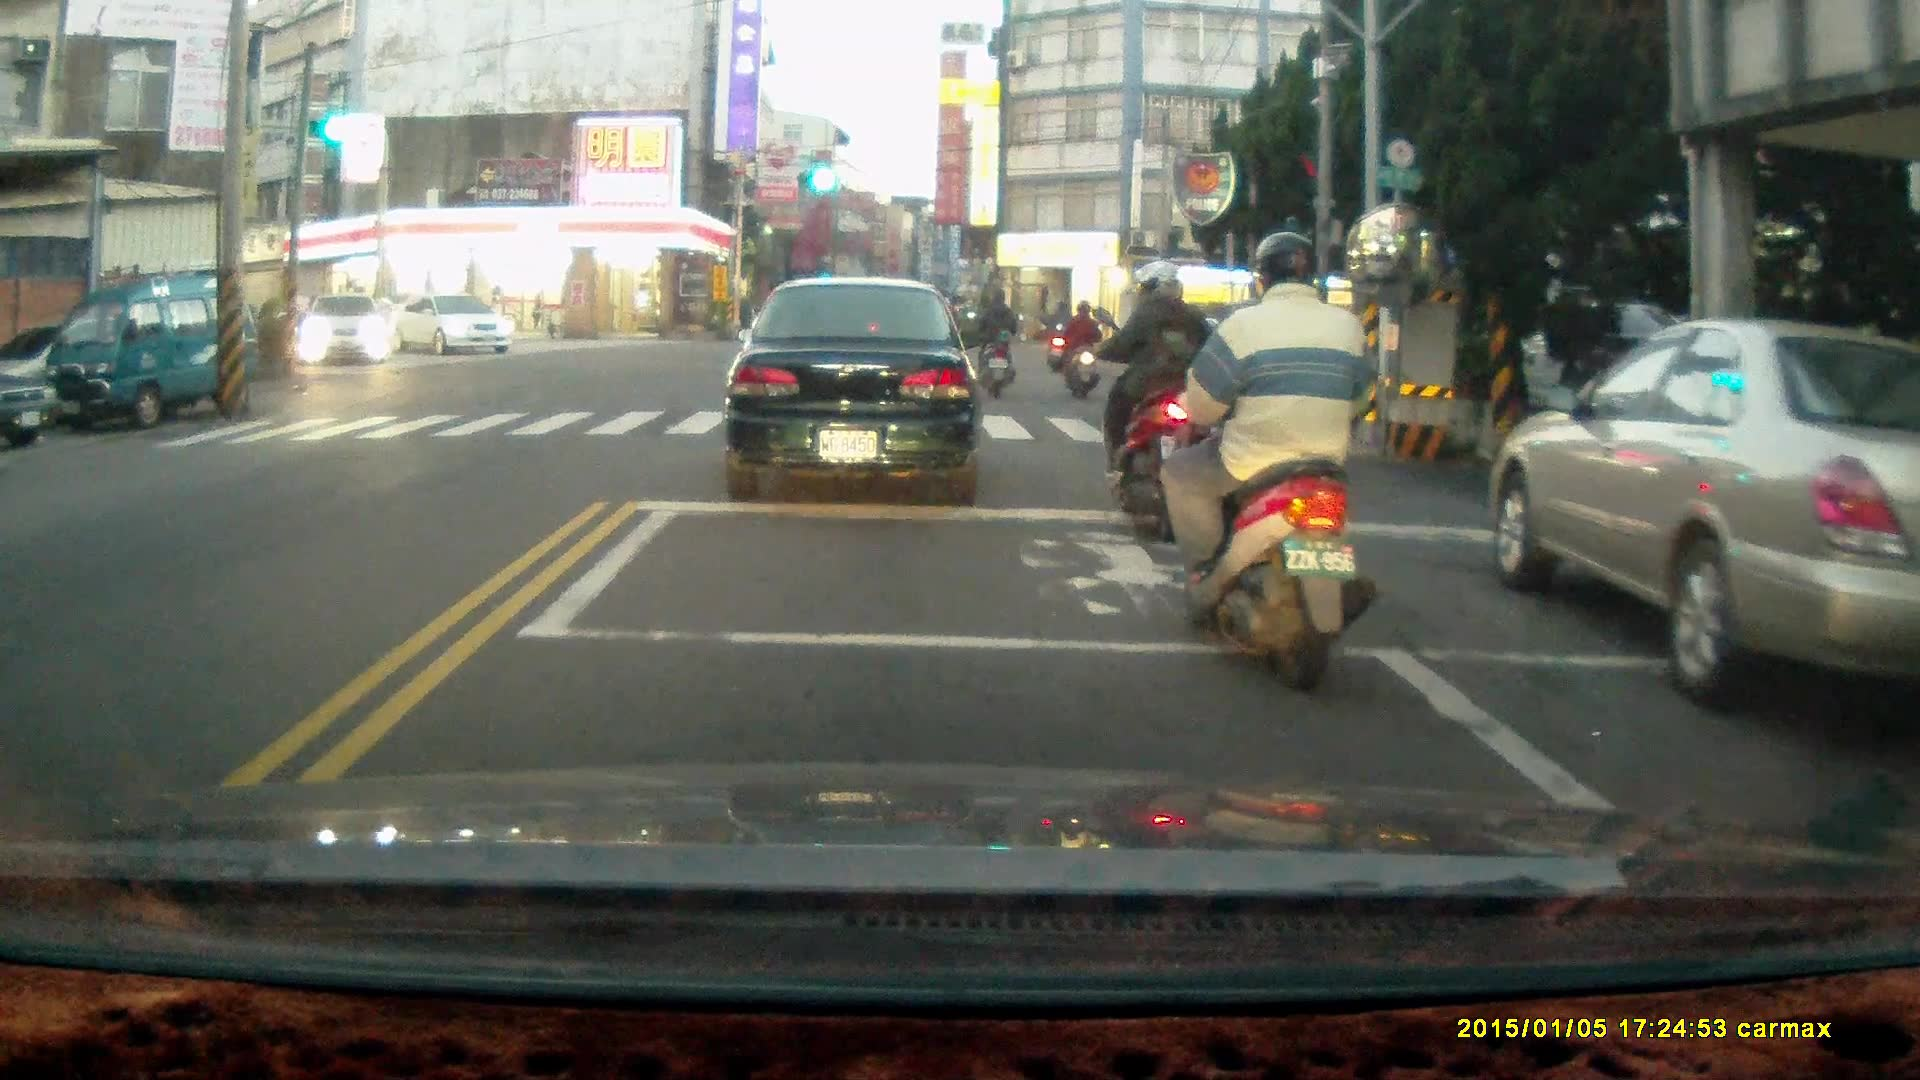rider: (1167, 230, 1387, 698), (1084, 257, 1220, 541), (964, 283, 1025, 396), (1058, 300, 1102, 400), (1042, 298, 1073, 373)
vehicle: (1485, 314, 1920, 721), (718, 275, 985, 506), (46, 263, 260, 432), (388, 292, 517, 361), (297, 297, 398, 374)
